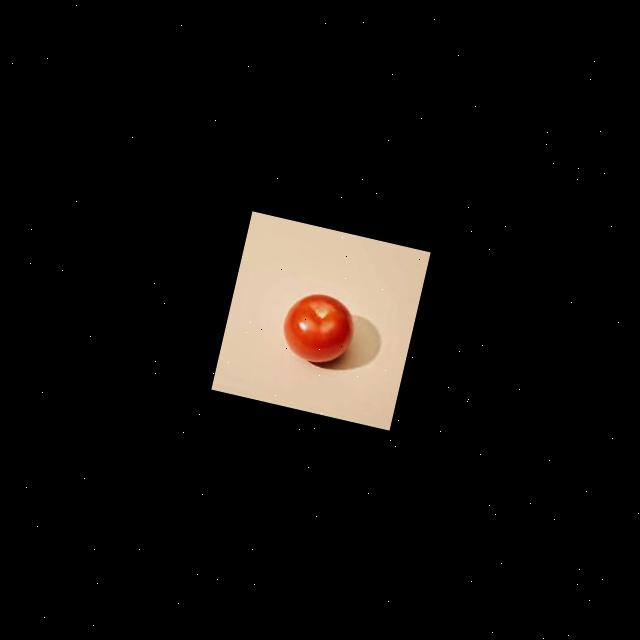tomato: (268, 284, 352, 373)
